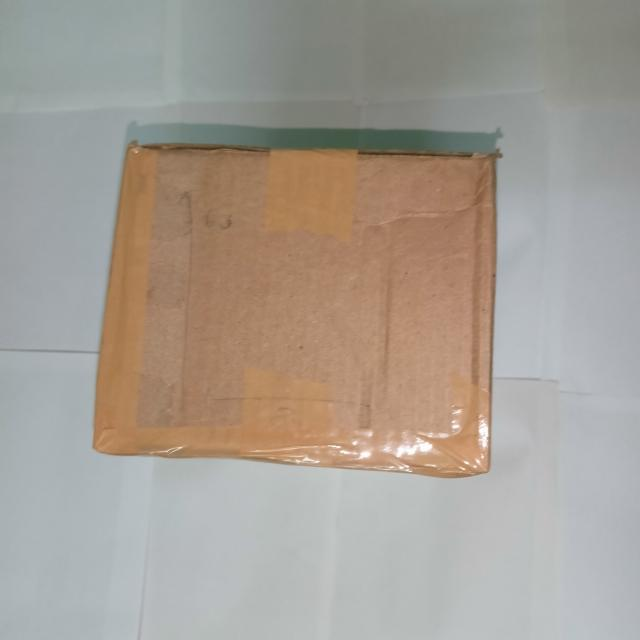box: (97, 143, 500, 465)
